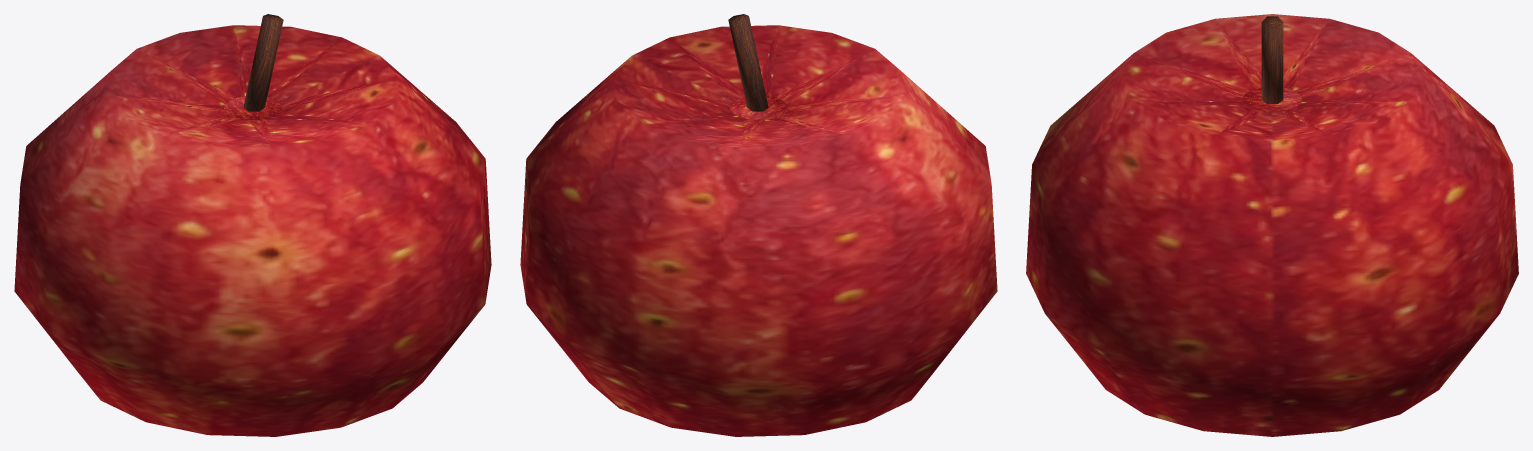
Rendered from item_7item274.glb.
3 views of the same model, side by side, from view 1: azimuth 30°, elevation 25°; view 2: azimuth 150°, elevation 25°; view 3: azimuth 270°, elevation 25° (orthographic). The views are drawn at different scales.
Parts seen in each view (by area): view 1: props_7item274; view 2: props_7item274; view 3: props_7item274.
Boxes of the visible parts, box(x1,y1,x2,y2) form: props_7item274: box(14, 14, 491, 436); props_7item274: box(520, 14, 997, 436); props_7item274: box(1026, 14, 1518, 436).
Bounding box in the file's own units: 0.82 × 0.6836 × 0.82.
Materials: 2 (2 with a texture image).
